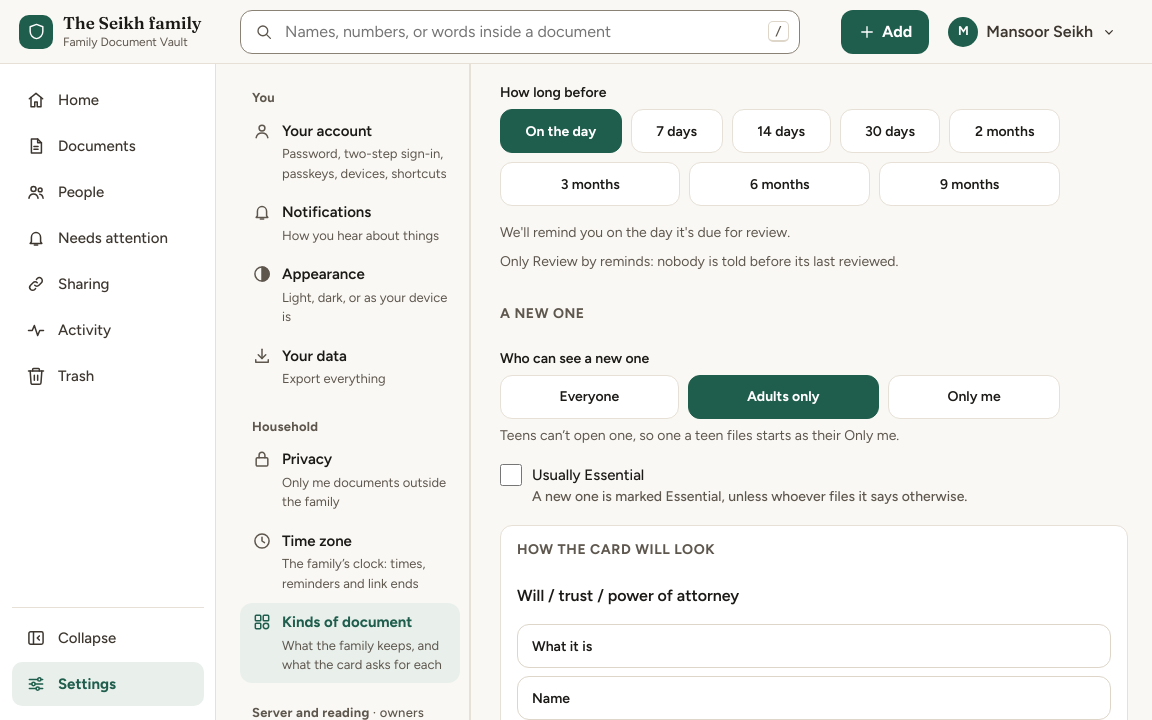
Test: Settings → Kinds of document (5.12) › an owner widens it once they have confirmed it is them
(page scrolled)
Click the button "Everyone" at (589, 397), box 500,375 -> 679,419
(page scrolled)
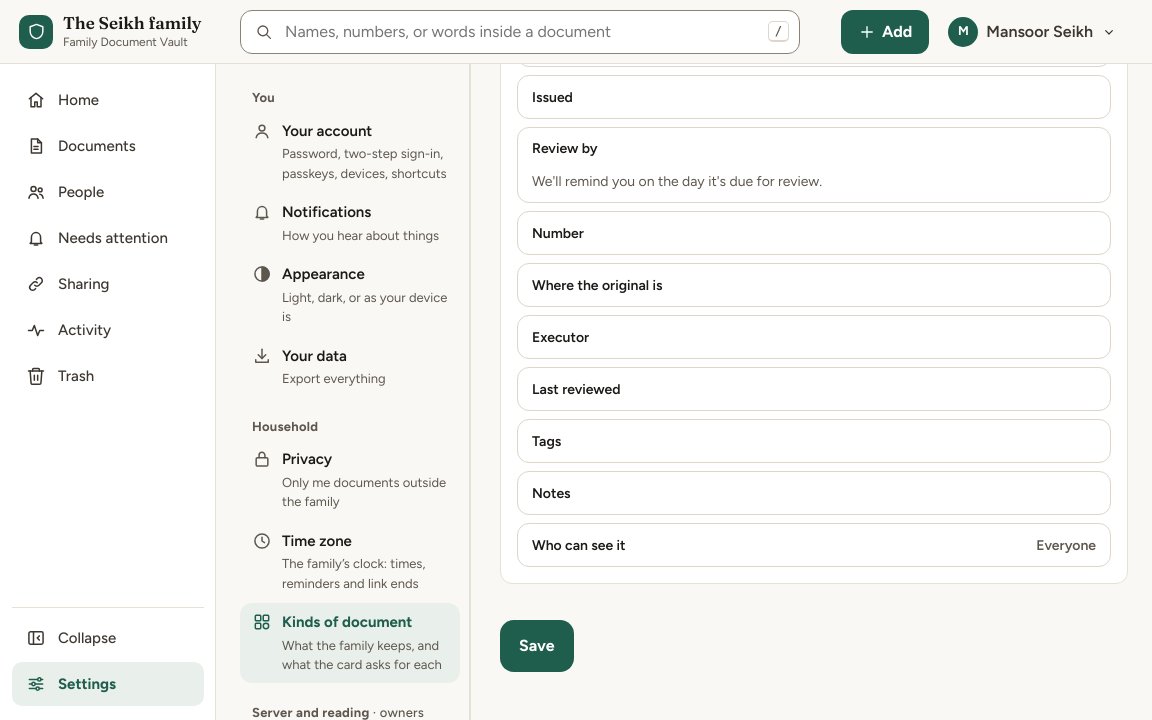
Click the button "Save" at (537, 646), box 500,620 -> 574,672
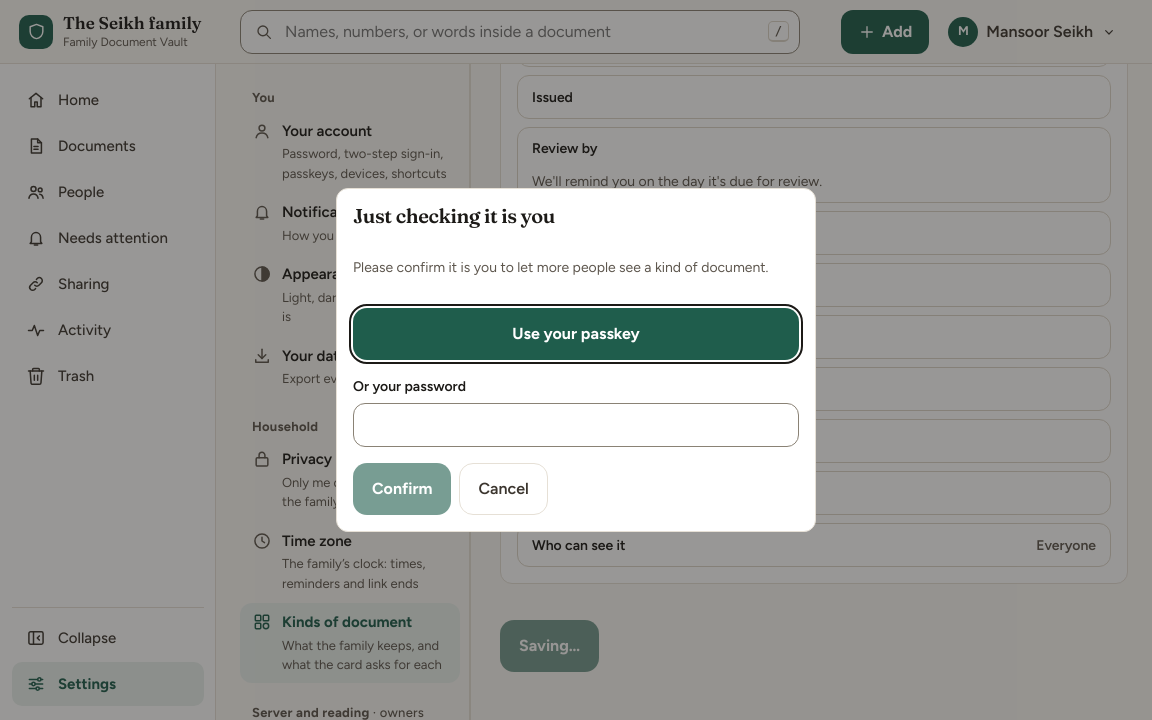
expect the text "Please confirm it is you to let more people see a kind of document." is shown: met, box 353,257 -> 799,278
Type "correct horse battery" into the password field labelled "Or your password" at (576, 425), box 353,403 -> 799,447
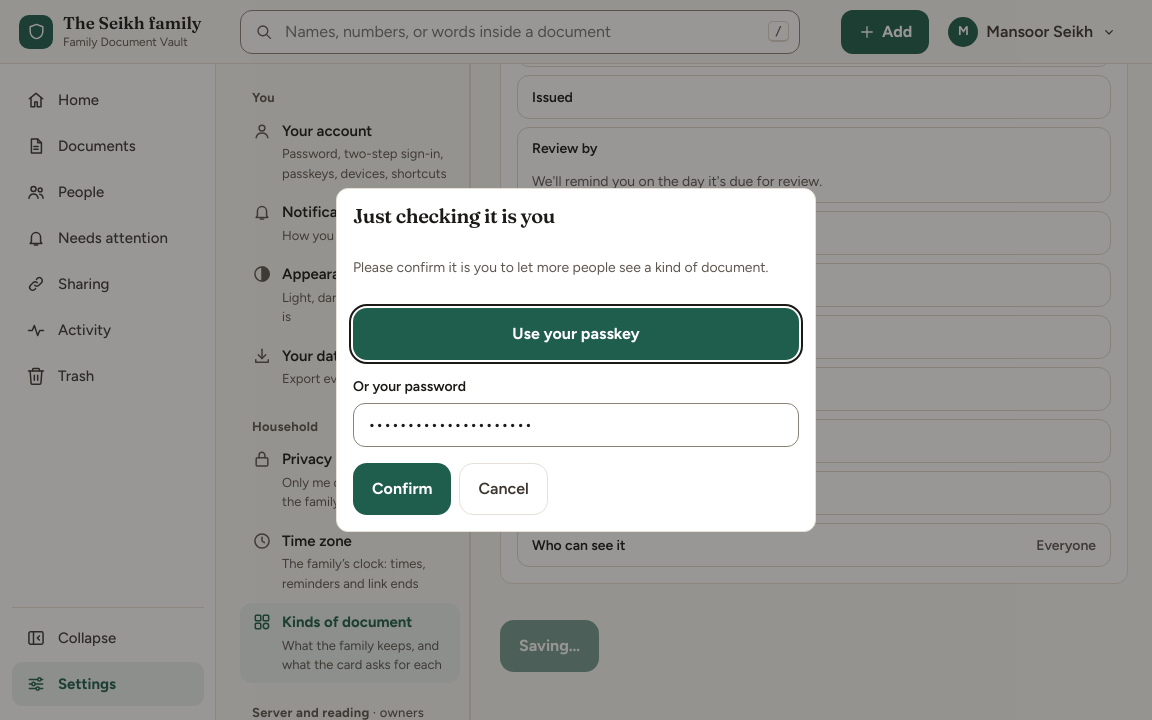
Click the button "Confirm" at (402, 489), box 353,463 -> 452,515
(page scrolled)
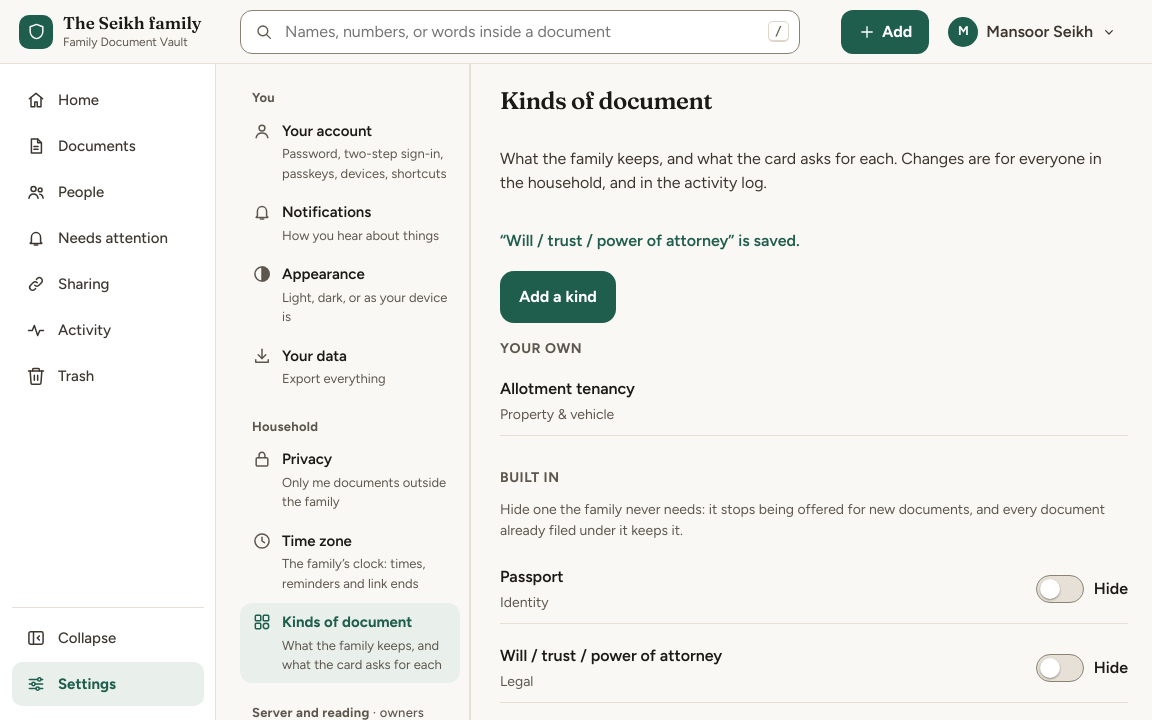
expect the text "“Will / trust / power of attorney” is saved." is shown: met, box 500,231 -> 800,250
